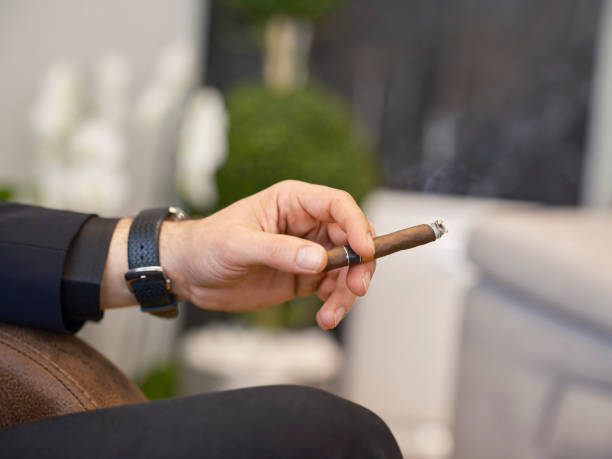cigarette: (323, 220, 447, 268)
